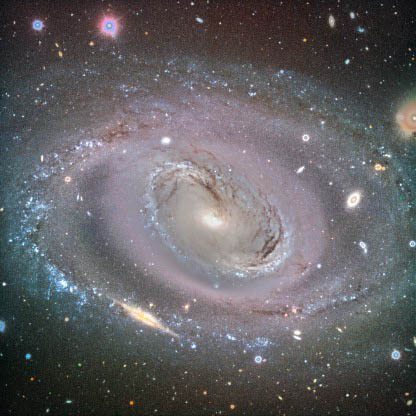Messier 96: (5, 59, 416, 363)
